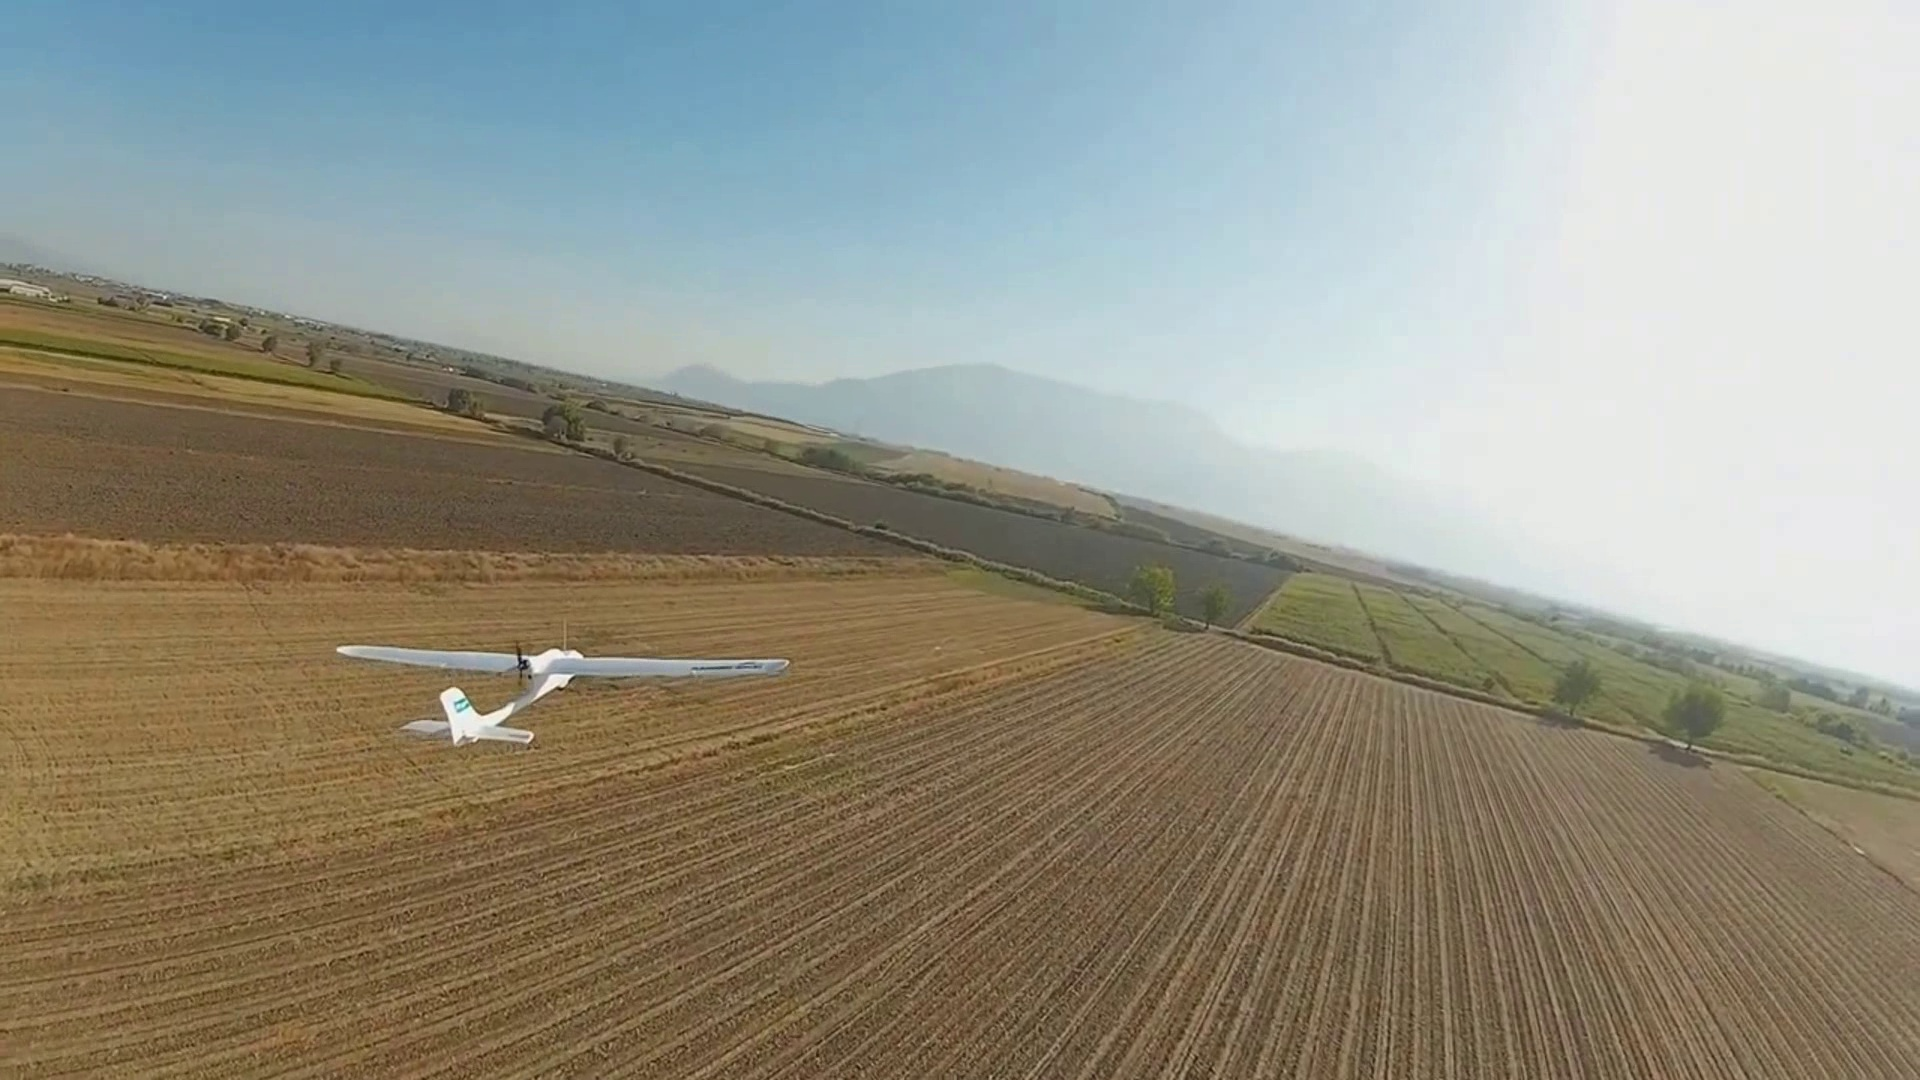airplane: (336, 636, 789, 748), (435, 665, 574, 748), (435, 683, 538, 748)
